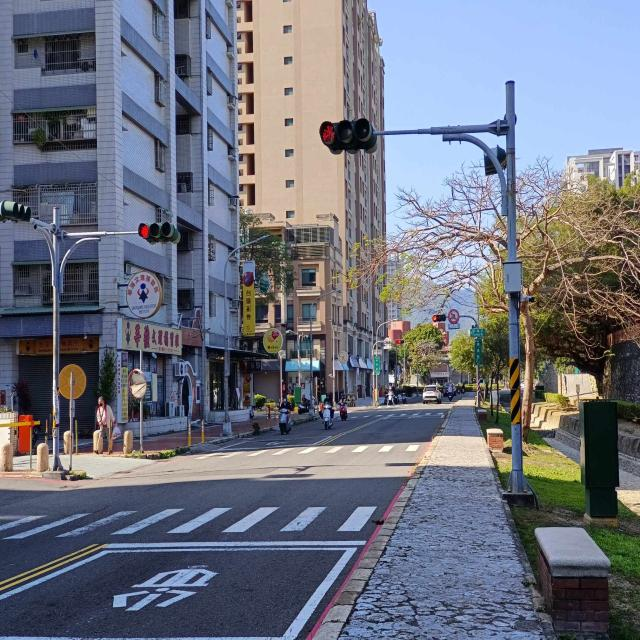person: (96, 397, 116, 452)
zebra crossing: (1, 507, 385, 540), (197, 444, 421, 456), (354, 411, 442, 417)
